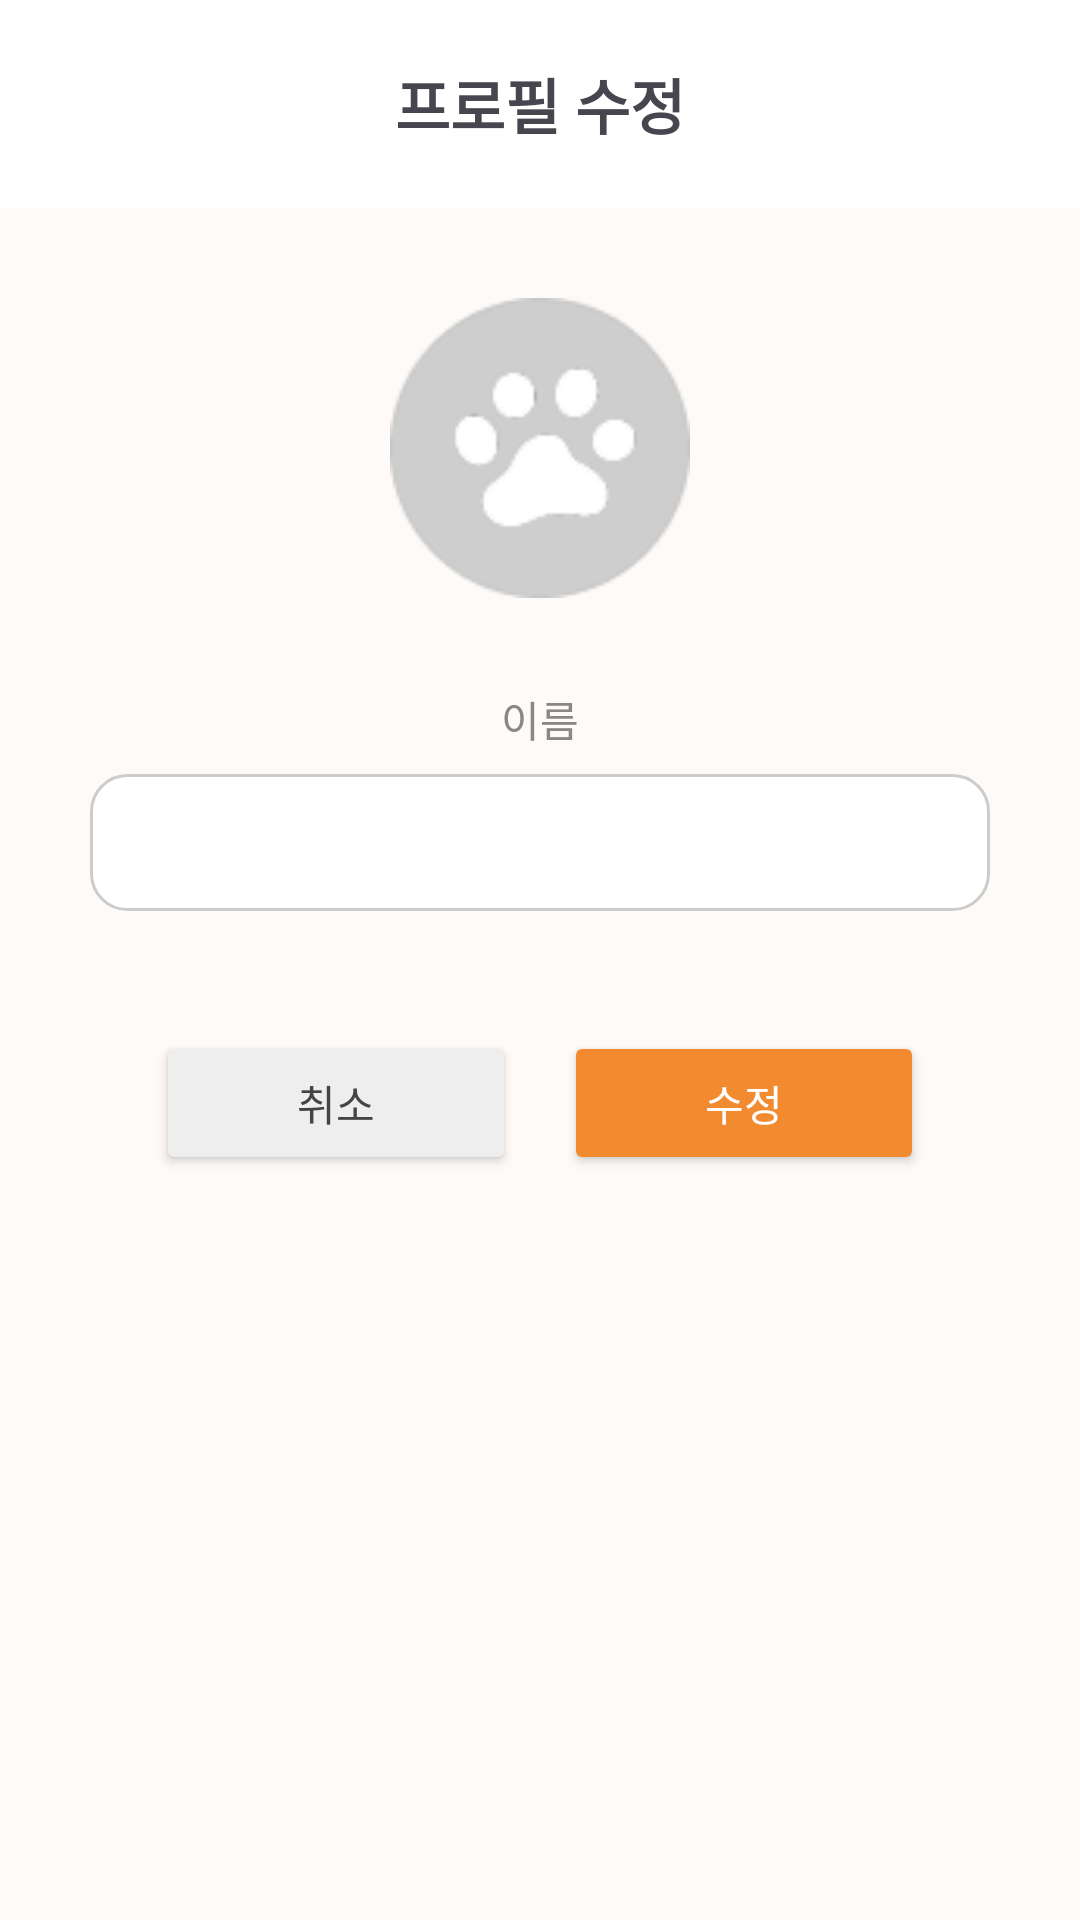

Icons on this 1080x1920 Android screen, each with the point to tap as (x=x, y=y):
profileimage: (x=540, y=448)
